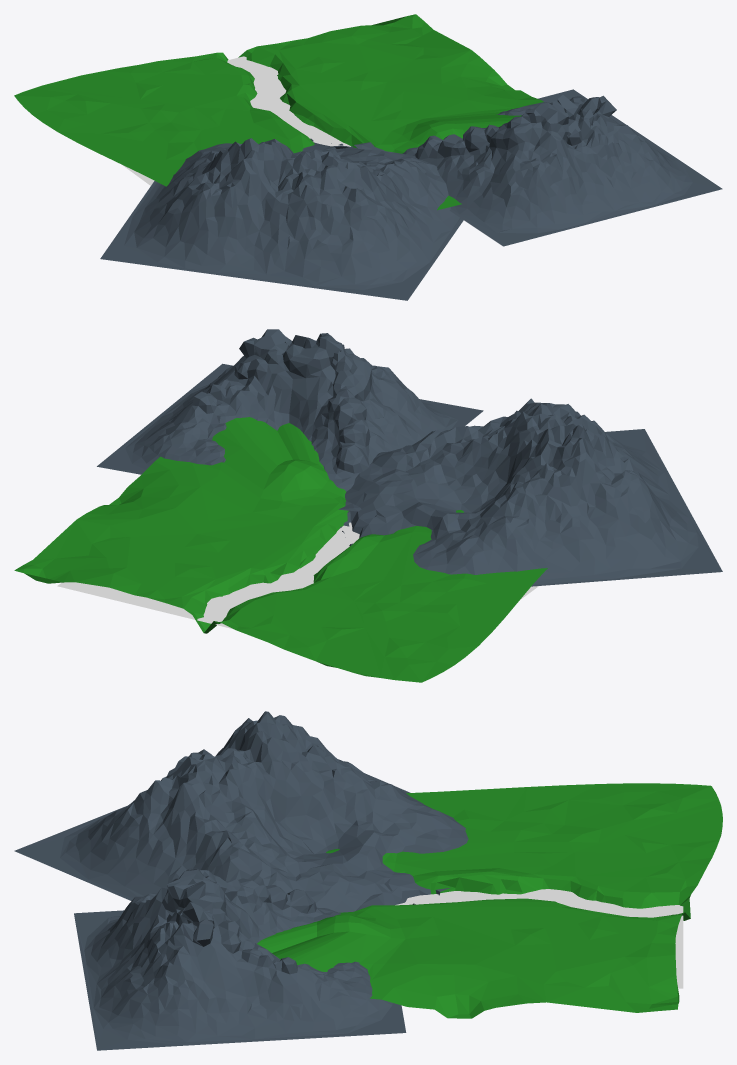
The model's file is Tutorial.fbx.
3 renders of one model, top to bottom at view 1: azimuth 30°, elevation 25°; view 2: azimuth 150°, elevation 25°; view 3: azimuth 270°, elevation 25°, orthographic. The views are drawn at different scales.
Parts seen in each view (by area): view 1: Plane, Landscape, Landscape.001, Plane.001; view 2: Plane, Landscape, Landscape.001, Plane.001; view 3: Plane, Landscape, Landscape.001, Plane.001.
Part boxes in pixels (bbox=[...]): Plane: bbox=[14, 14, 543, 210]; Landscape: bbox=[100, 138, 463, 300]; Landscape.001: bbox=[354, 89, 722, 246]; Plane.001: bbox=[122, 56, 350, 185]; Plane: bbox=[14, 417, 547, 682]; Landscape: bbox=[340, 398, 722, 586]; Landscape.001: bbox=[97, 329, 483, 511]; Plane.001: bbox=[57, 522, 538, 629]; Plane: bbox=[257, 783, 722, 1018]; Landscape: bbox=[14, 711, 468, 912]; Landscape.001: bbox=[74, 868, 406, 1050]; Plane.001: bbox=[395, 889, 683, 988].
Bounding box in the file's own units: 37386 × 7664 × 36392.
